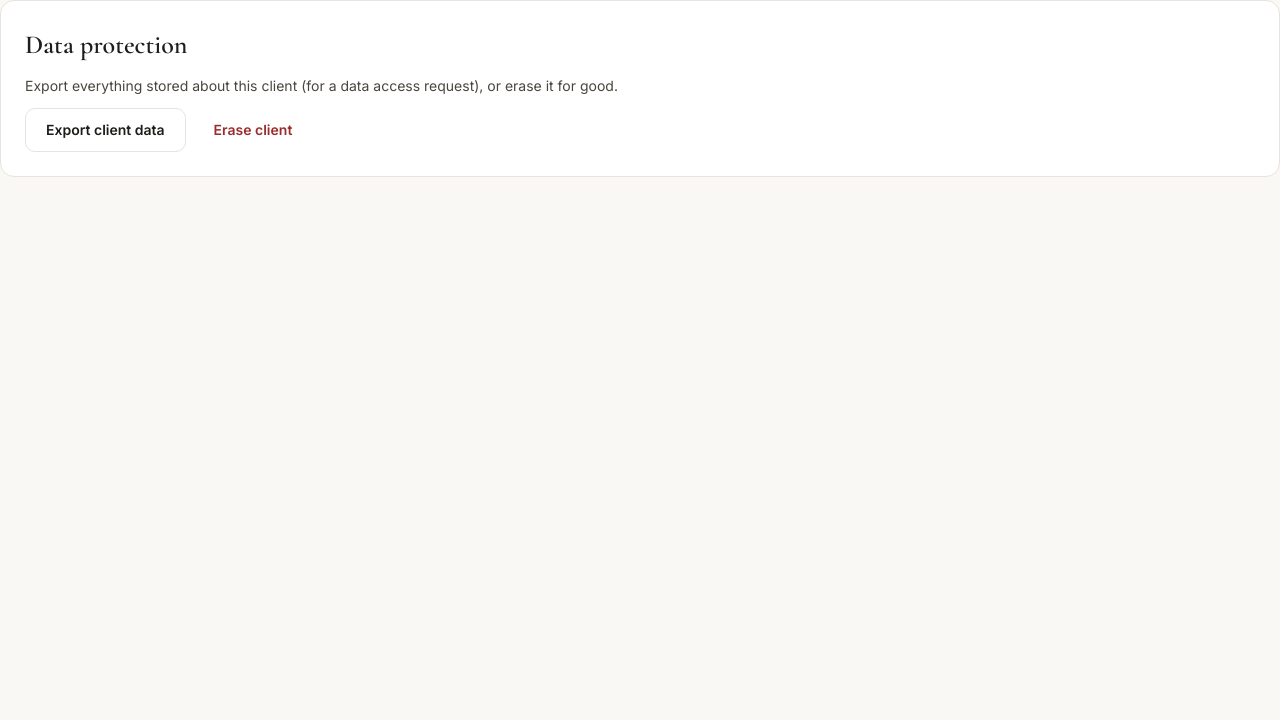
erasing a client needs the exact name and then leaves the deleted client
Later steps or results of the test are not shown.
Click the button "Erase client".
click(253, 130)  # box [194,108,312,152]
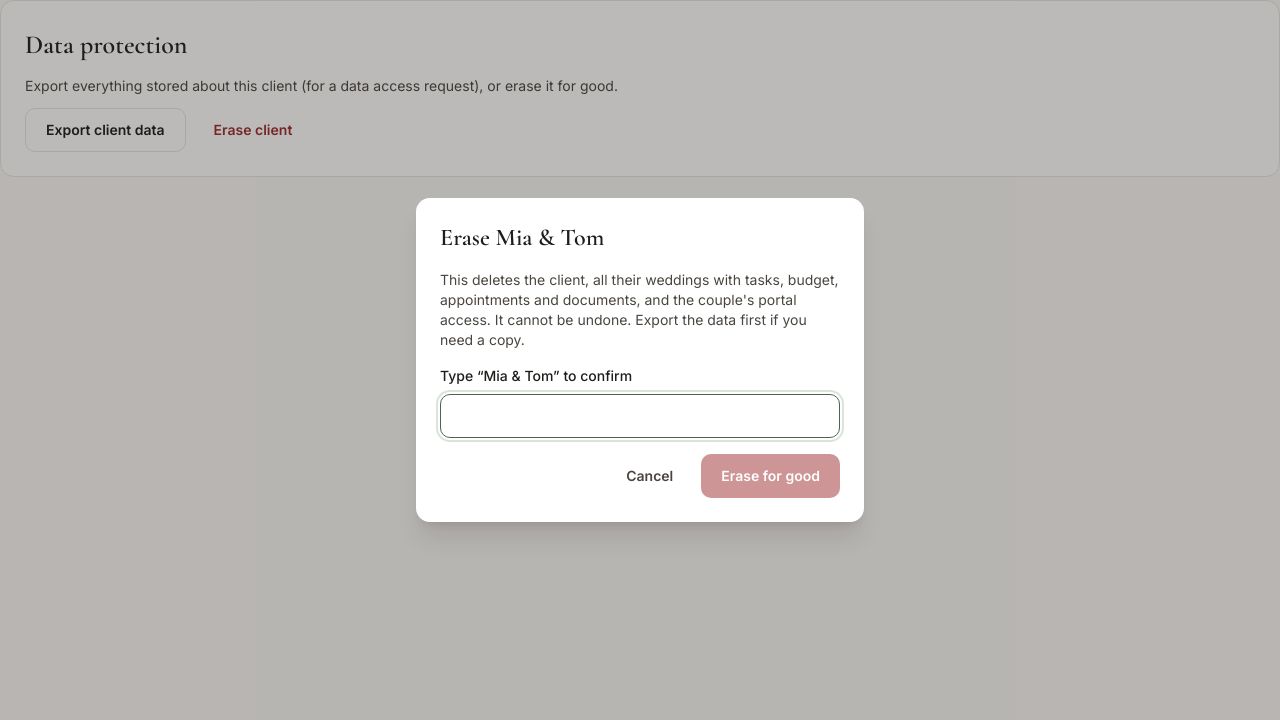
Type "Mia" into the field labelled "Type “Mia & Tom” to confirm".
click(640, 416); type("Mia")  # box [440,394,840,438]
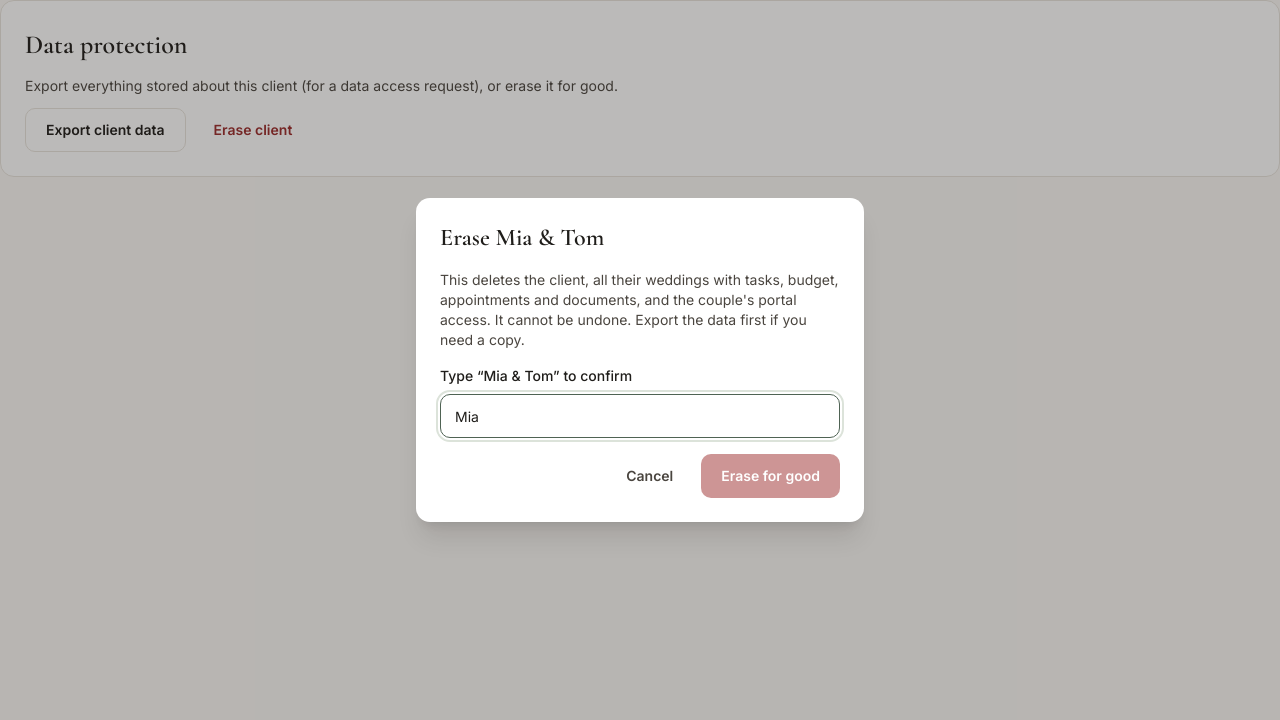
Check: the button "Erase for good" is disabled, box [701,454,840,498]
